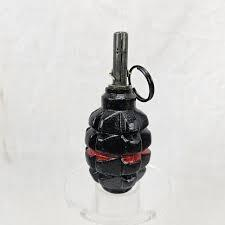F1: (85, 31, 152, 194)
